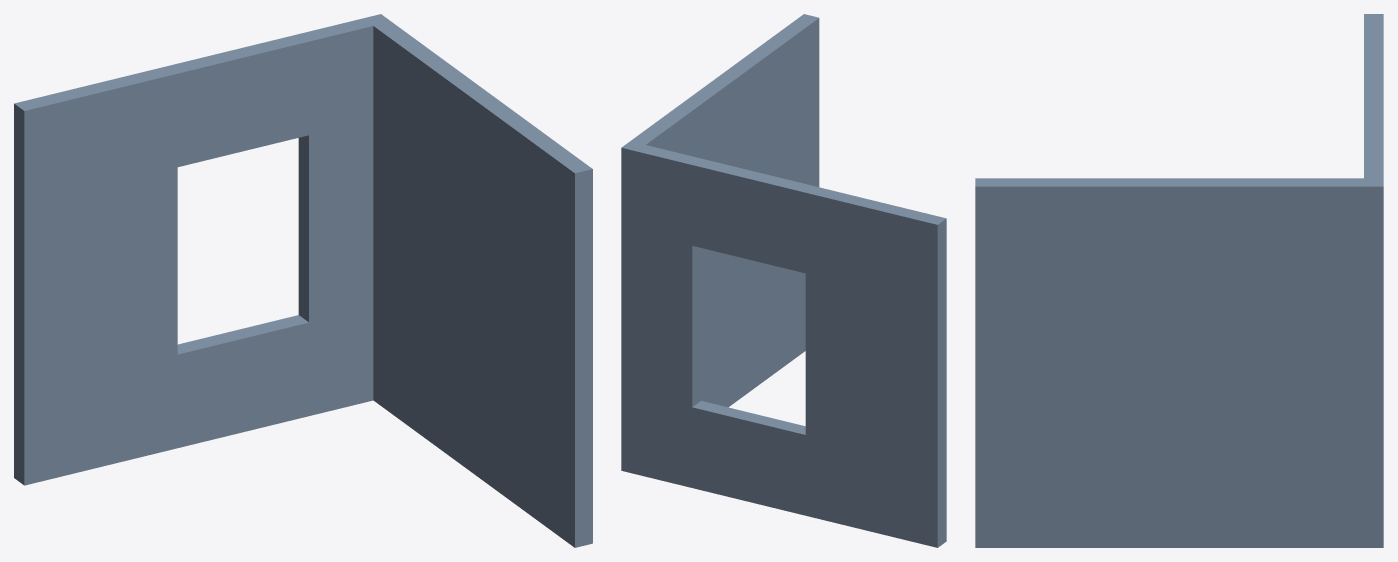
File: Wal_1_Corner_D.fbx
3 renders of one model, left to right at view 1: azimuth 30°, elevation 25°; view 2: azimuth 150°, elevation 25°; view 3: azimuth 270°, elevation 25°, orthographic. The views are drawn at different scales.
Parts seen in each view (by area): view 1: polySurface7; view 2: polySurface7; view 3: polySurface7.
Boxes of the visible parts, left/top/right/bottom form: polySurface7: left=14, top=14, right=592, bottom=547; polySurface7: left=621, top=14, right=946, bottom=547; polySurface7: left=975, top=14, right=1383, bottom=547.
Size of the model in its own units: 4.1 by 4 by 4.1.
Materials: 1 (1 with a texture image).
